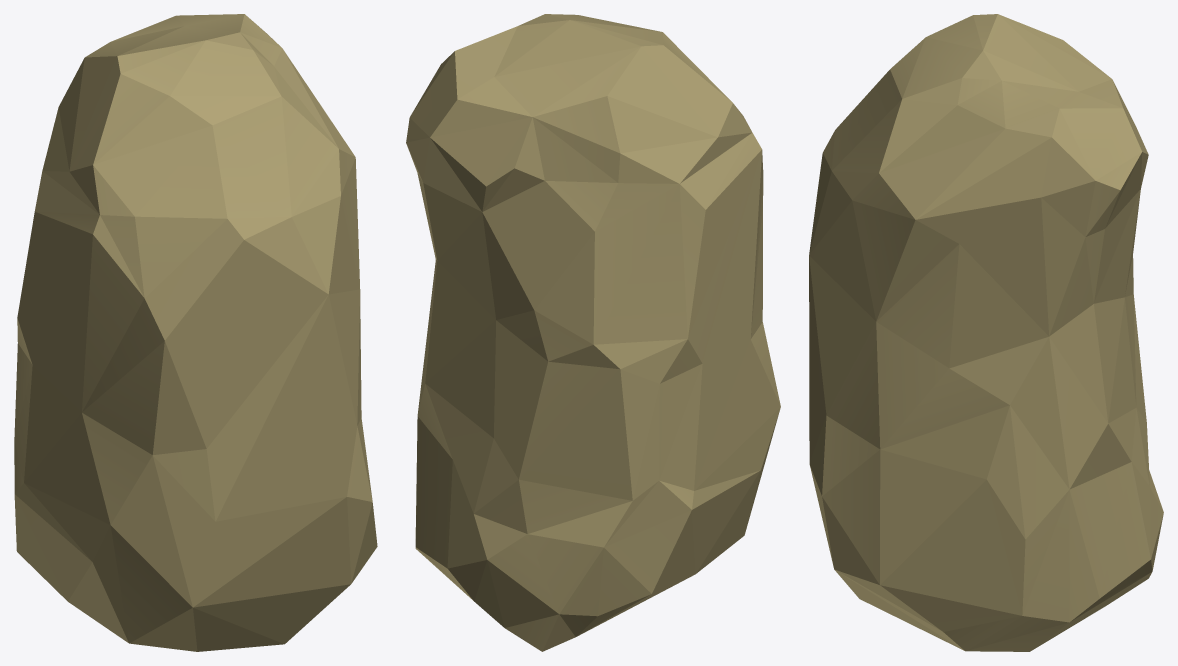
The model's file is SM_small_rock_11.fbx.
The picture shows the model from 3 angles, left to right: view 1: azimuth 30°, elevation 25°; view 2: azimuth 150°, elevation 25°; view 3: azimuth 270°, elevation 25°; orthographic projection. The views are drawn at different scales.
Parts seen in each view (by area): view 1: small_rock_11; view 2: small_rock_11; view 3: small_rock_11.
Boxes of the visible parts, x1,y1,x2,y2 form: small_rock_11: (14, 14, 377, 651); small_rock_11: (406, 14, 780, 651); small_rock_11: (809, 14, 1163, 651).
Bounding box in the file's own units: 68.96 × 138 × 76.31.
